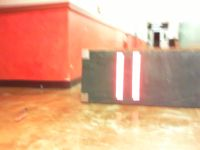switch: (131, 51, 142, 101), (115, 51, 124, 101)
